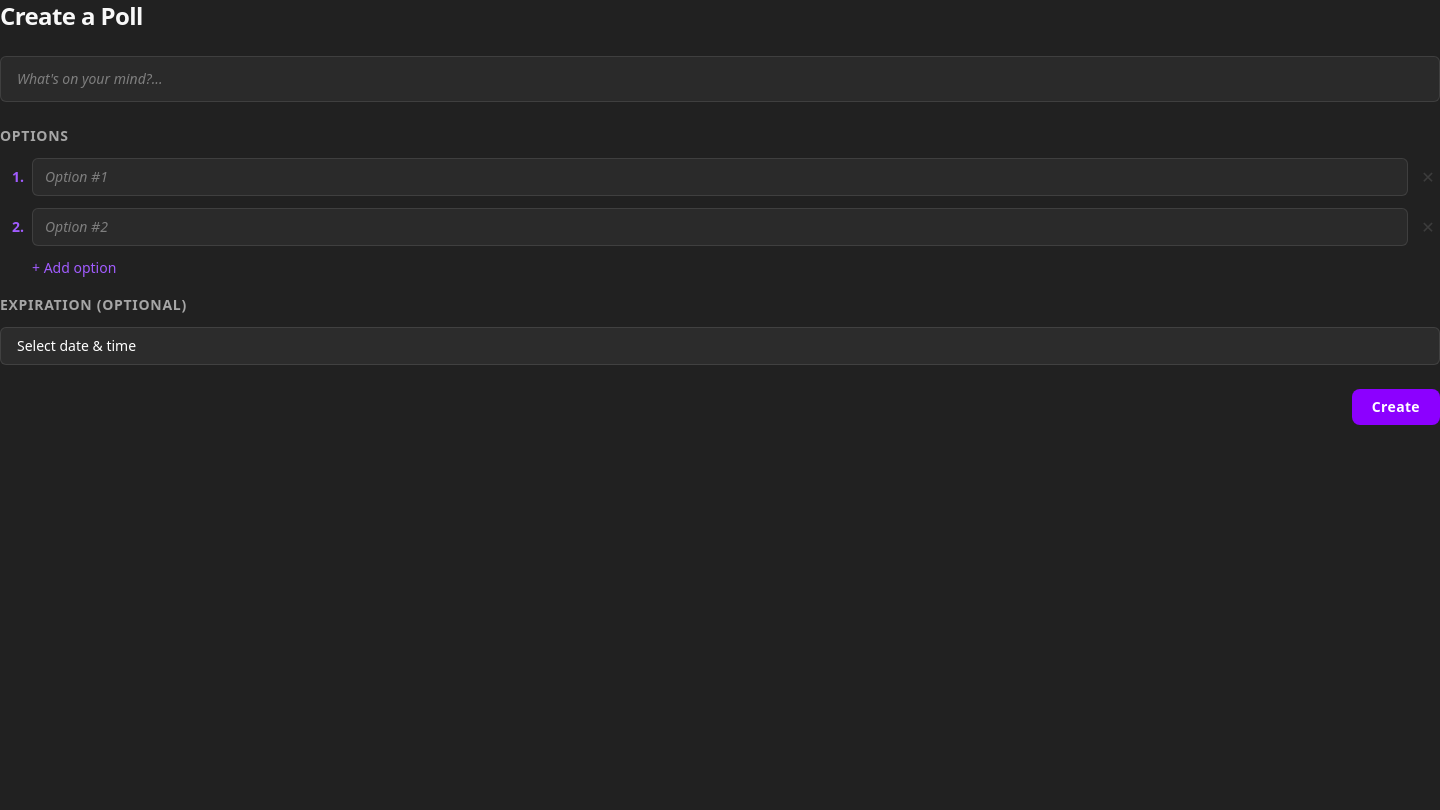
CreatePollPage › maps server 400 error for ExpiresAt field to inline error
This screenshot has width=1440, height=810.
Step 1. Type "Q" into the field named "poll question" → (720, 79), box [0,56,1439,102]
Step 2. Type "A" into the field named "option 1" → (720, 177), box [32,158,1408,196]
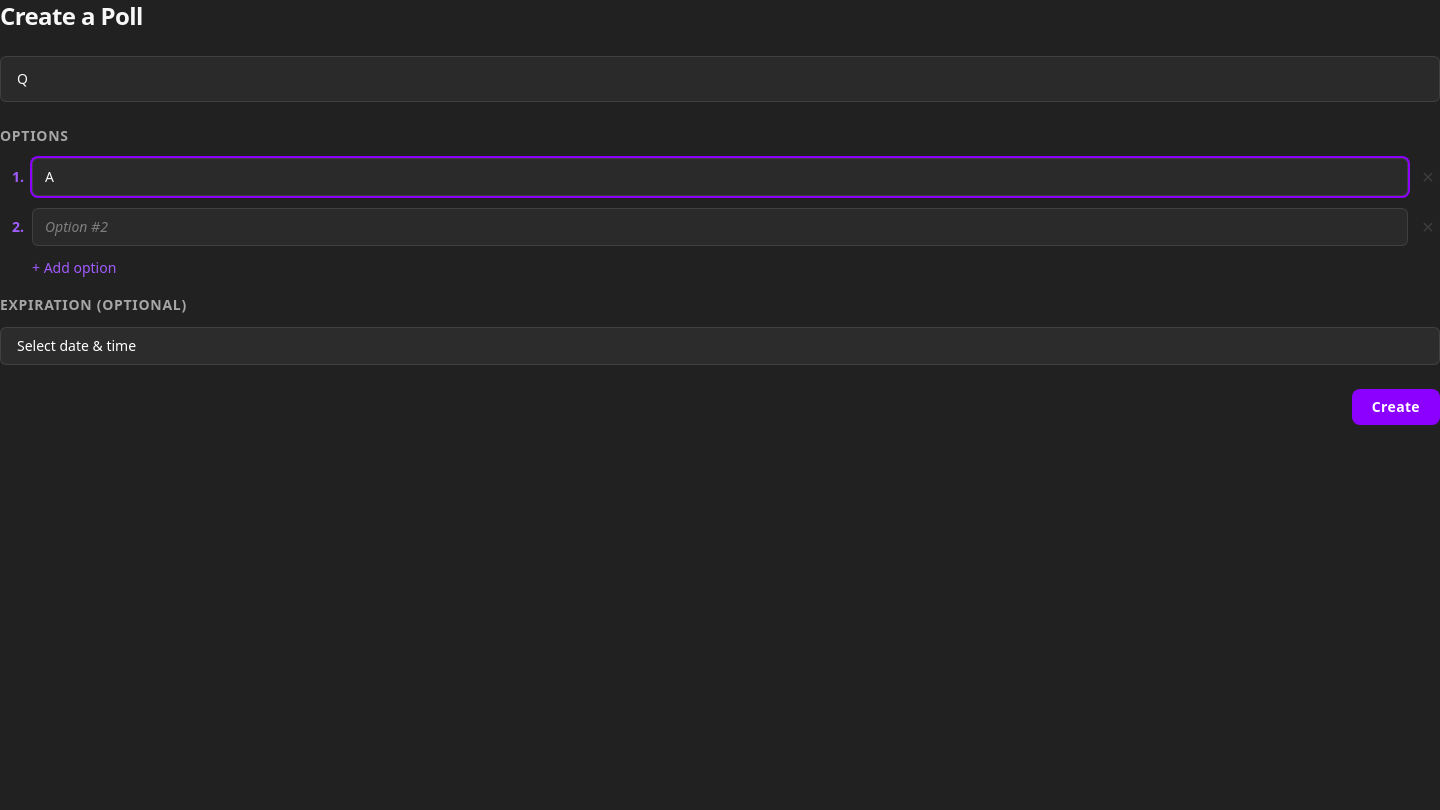
Step 3. Type "B" into the field named "option 2" → (720, 227), box [32,208,1408,246]
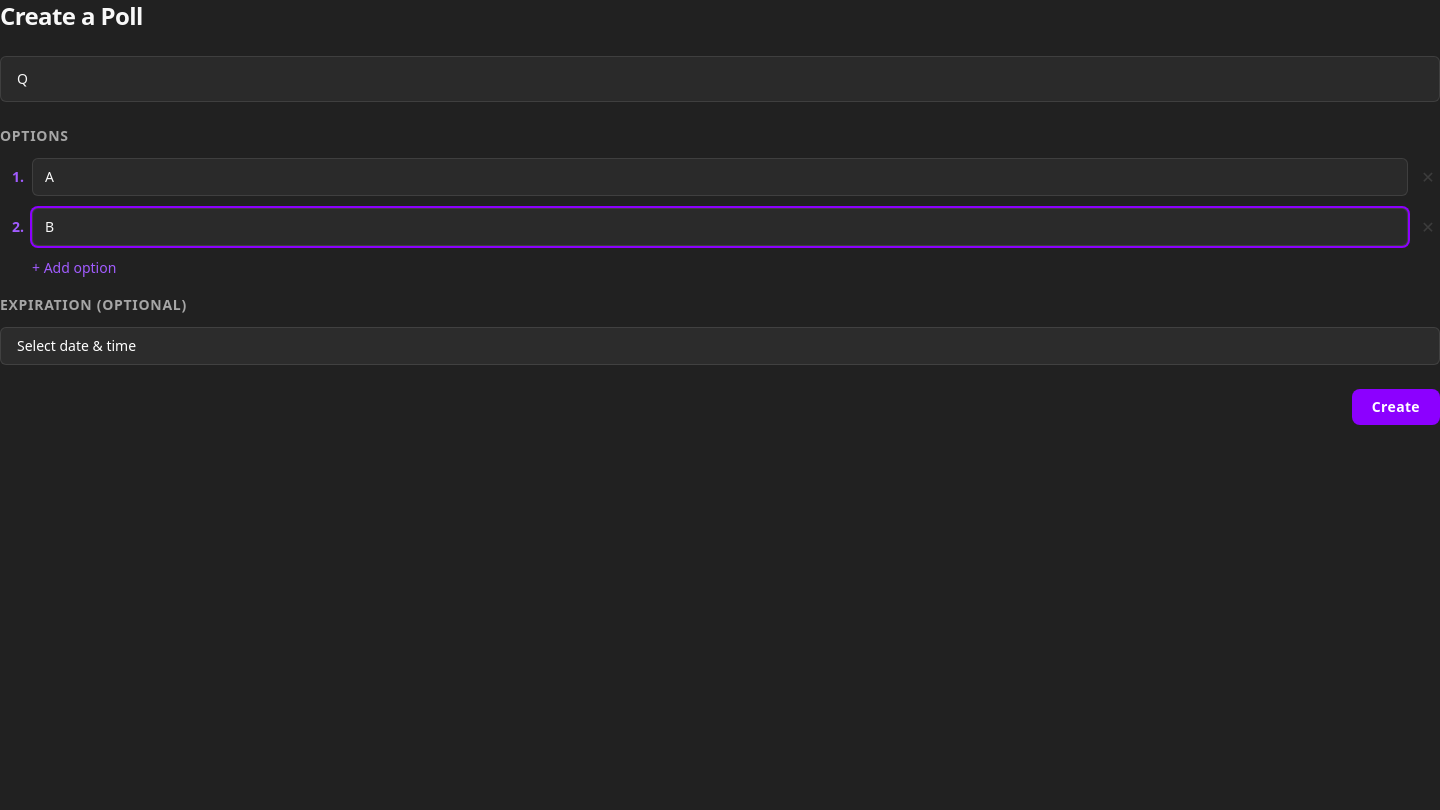
// Open the date time picker
Step 4. Click the button with aria-label "expiration date and time" → (77, 346), box [0,327,1439,365]
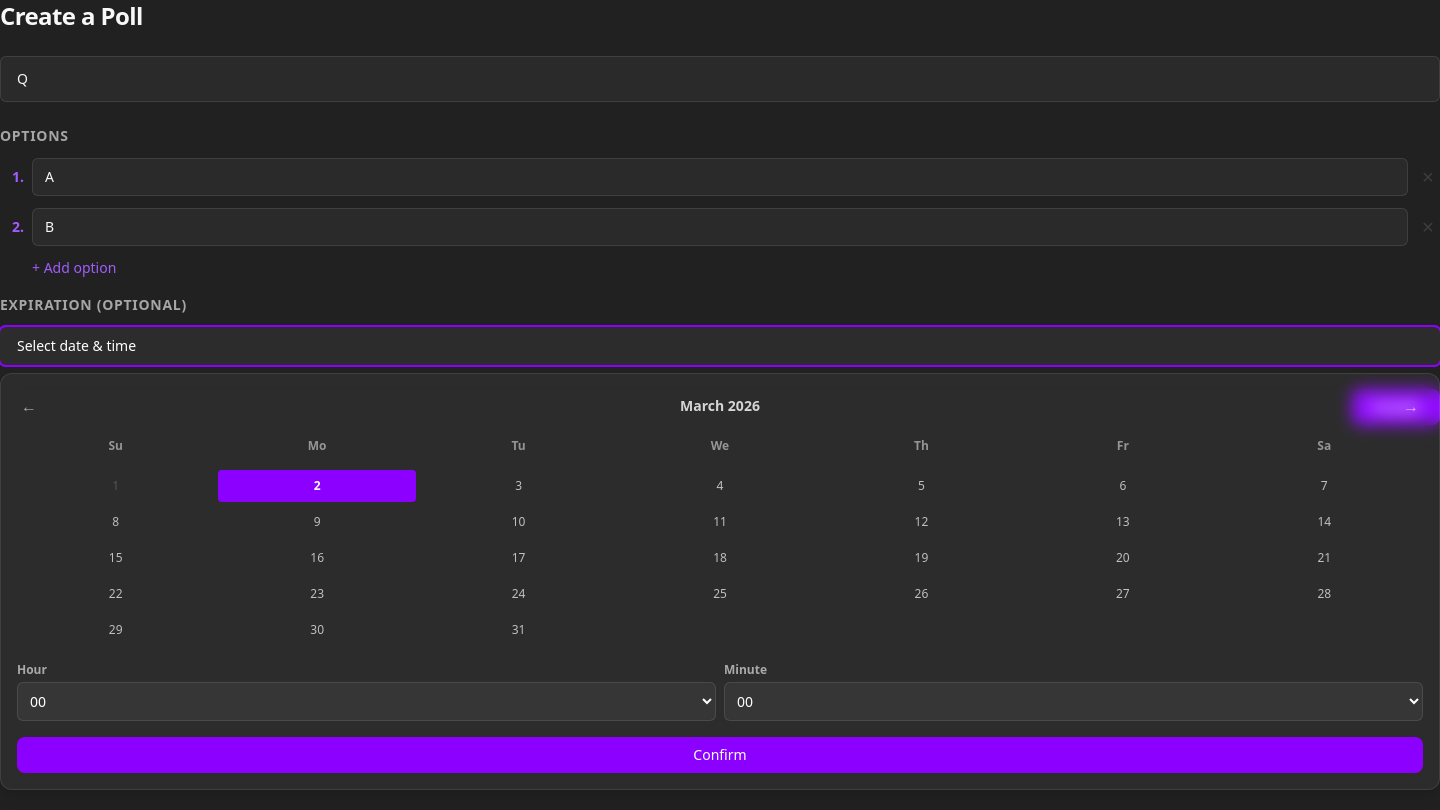
Step 5. Click the button "7" → (1324, 486), box [1226,470,1423,502]
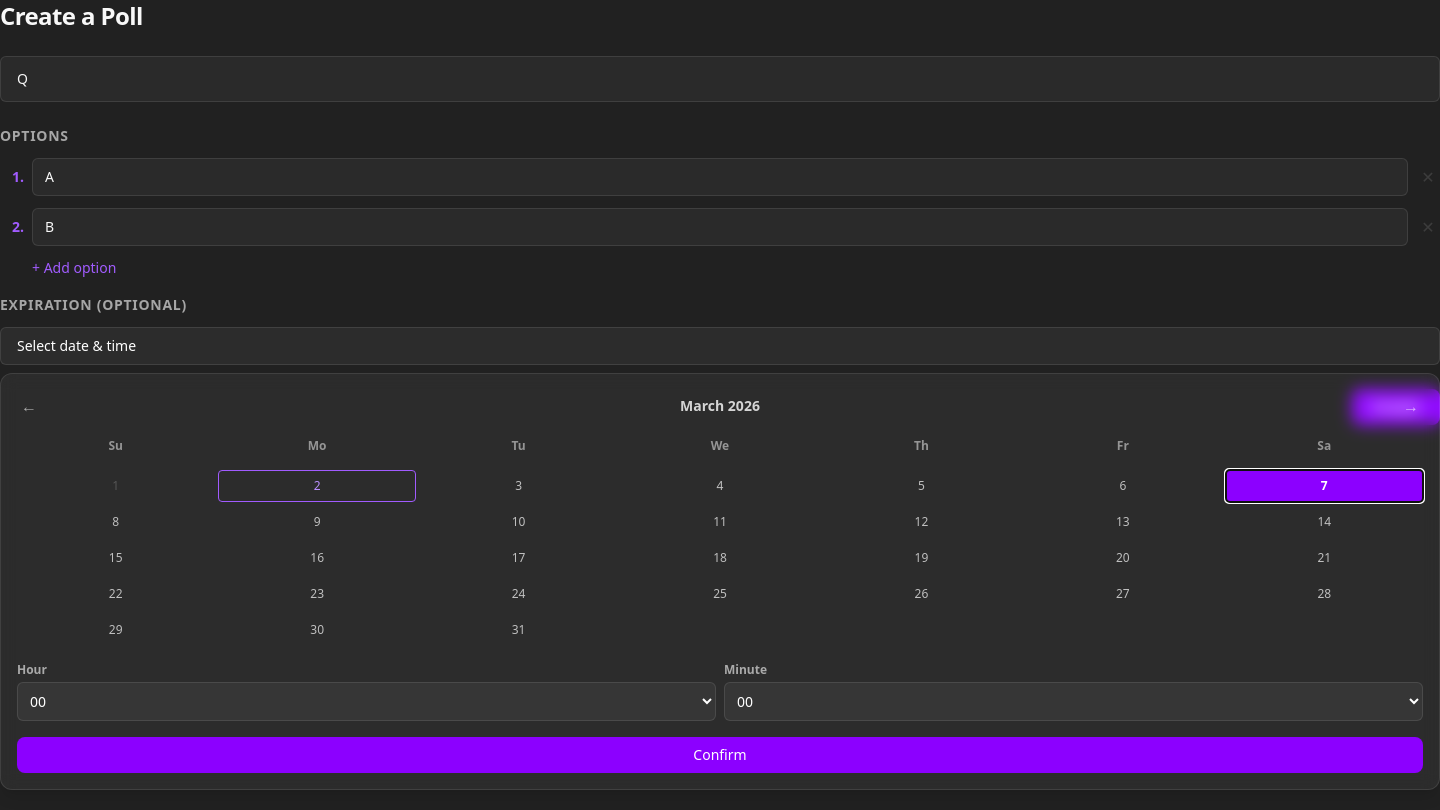
// Confirm and Submit
Step 6. Click the button "Confirm" → (720, 755), box [17,737,1423,773]
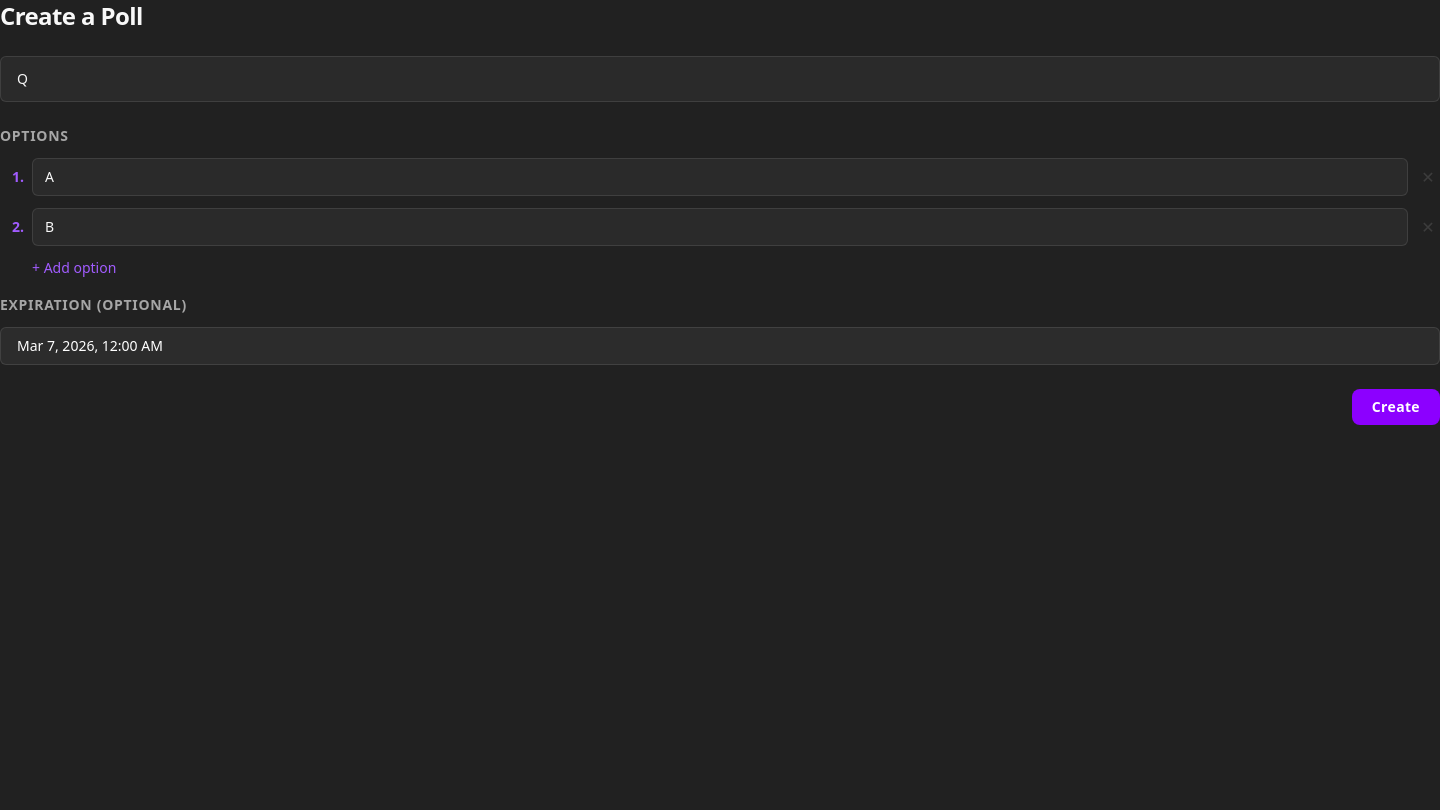
Step 7. Click the button "Create" → (1396, 407), box [1352,389,1439,425]
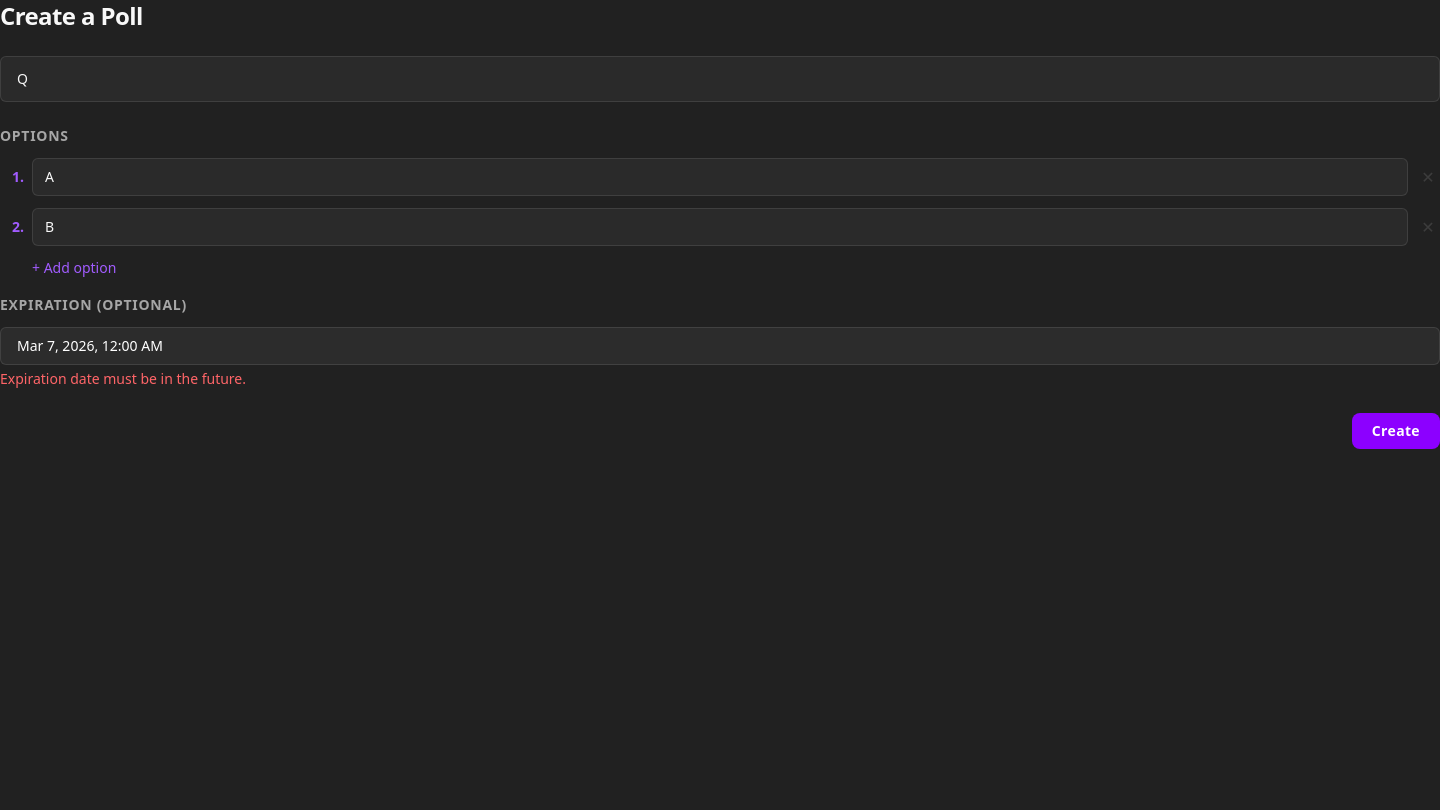
Result: the text "Expiration date must be in the future." is shown at [0,369,246,388]
